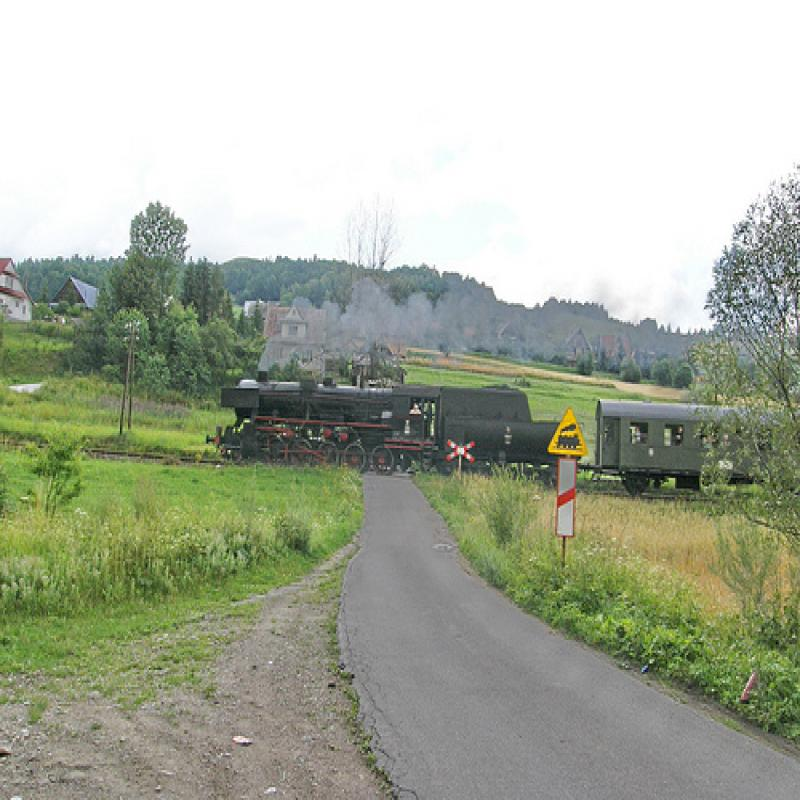train: (207, 374, 800, 498)
